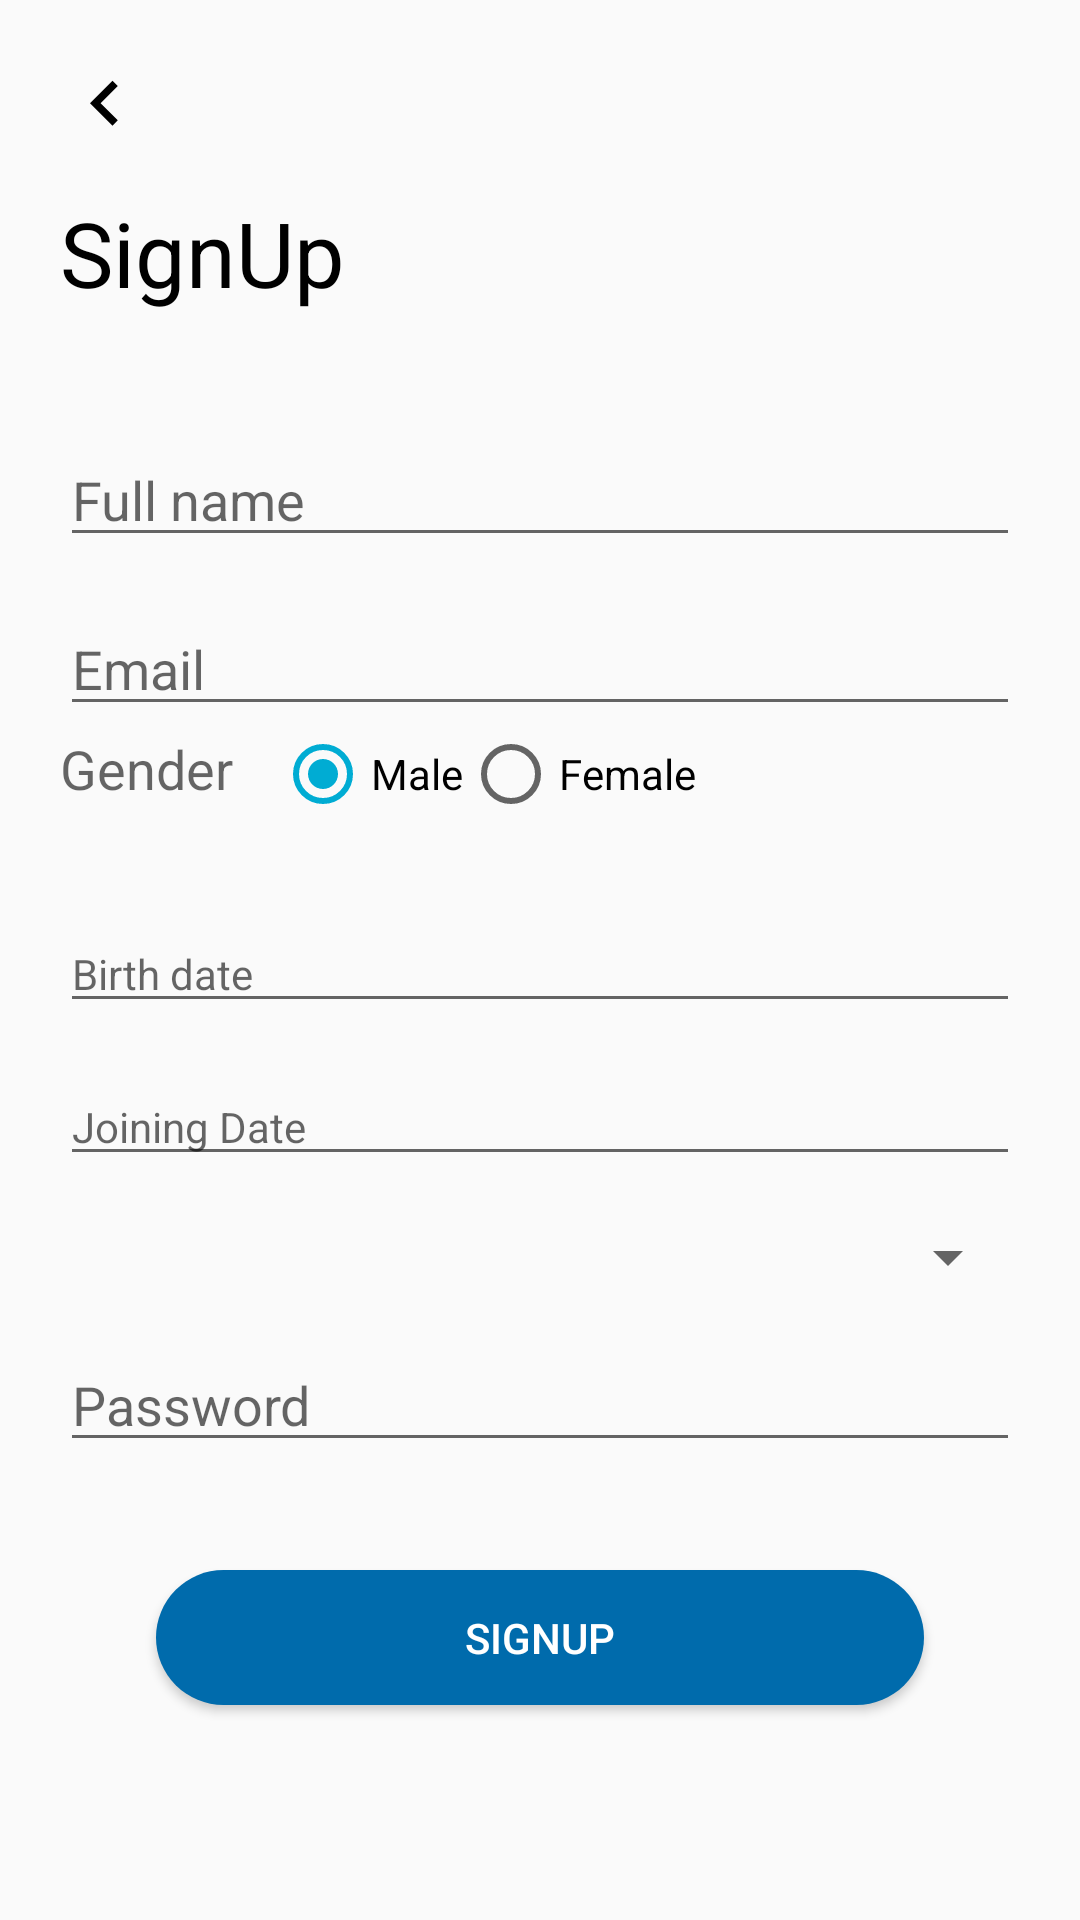

Screen size 1080x1920. Icon name, then its box in pixels as {"x1": x1, "y1": y1, "x2": x2, "y2": y2}:
back: {"x1": 90, "y1": 81, "x2": 118, "y2": 126}
